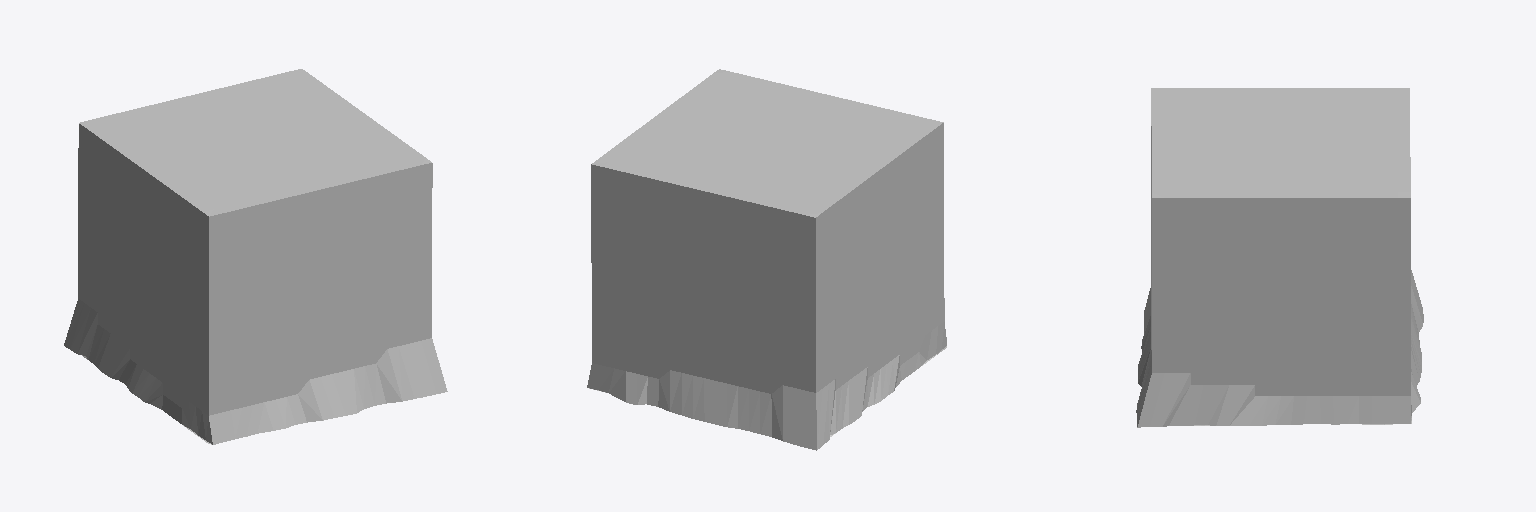
File: mod0199.obj
The picture shows the model from 3 angles: view 1: azimuth 30°, elevation 25°; view 2: azimuth 150°, elevation 25°; view 3: azimuth 270°, elevation 25°; orthographic projection.
Visible parts, largest first — view 1: Box001; view 2: Box001; view 3: Box001.
Part boxes in pixels (x1,y1,x2,y2): Box001: (64, 69, 447, 444); Box001: (587, 69, 946, 450); Box001: (1136, 88, 1423, 427).
Size of the model in its own units: 0.5799 by 0.5219 by 0.5979.